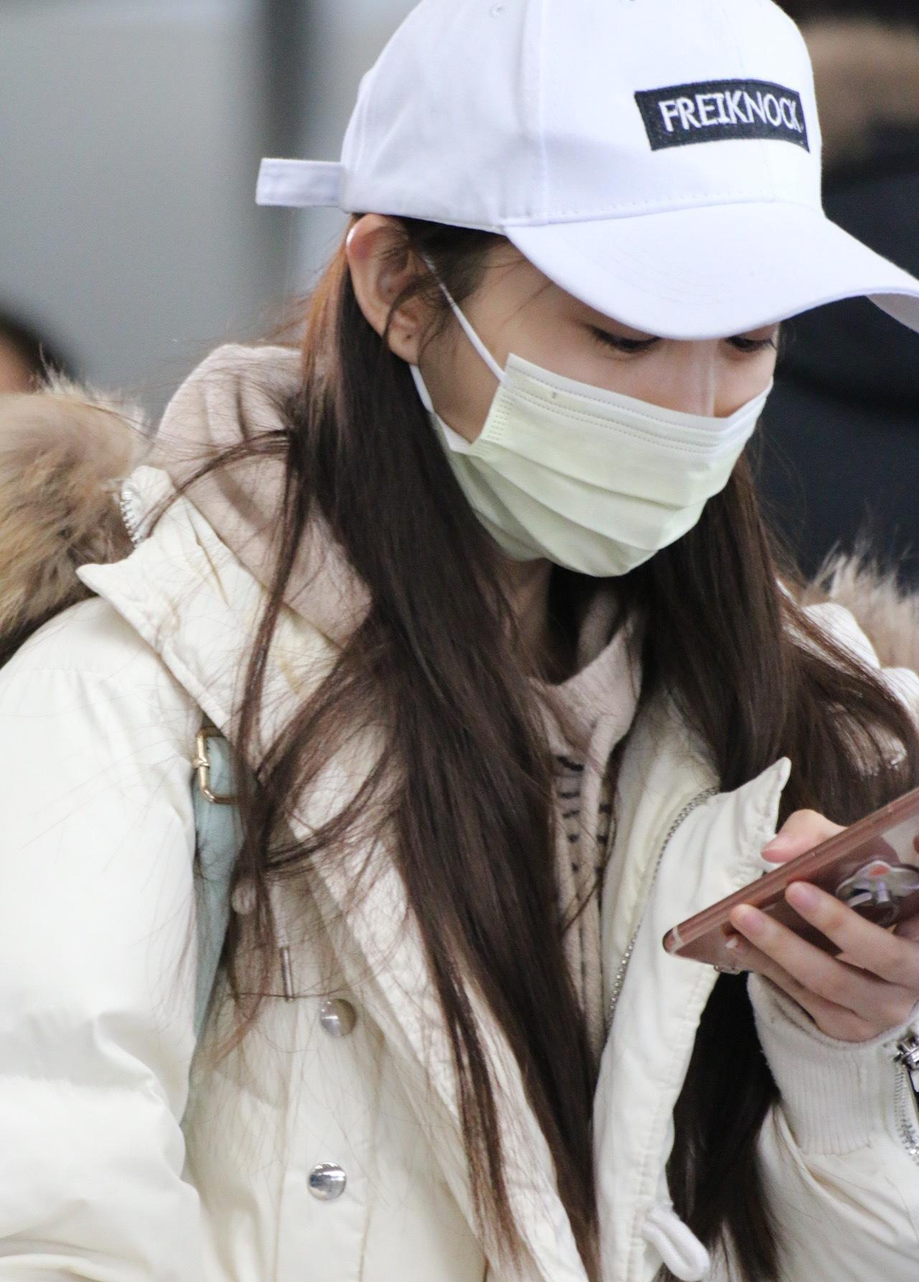OK: (439, 224, 790, 575)
